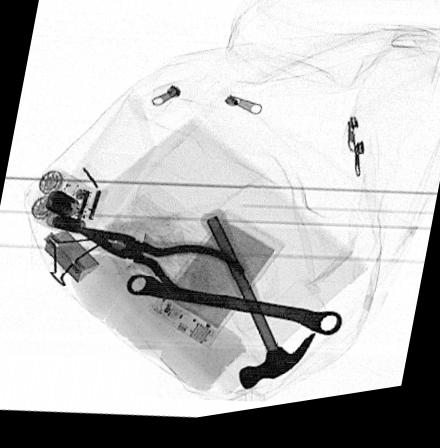Hammer: (200, 216, 316, 400)
Pliers: (72, 229, 246, 316)
Powerbank: (145, 215, 288, 356)
Wrench: (123, 278, 343, 347)
